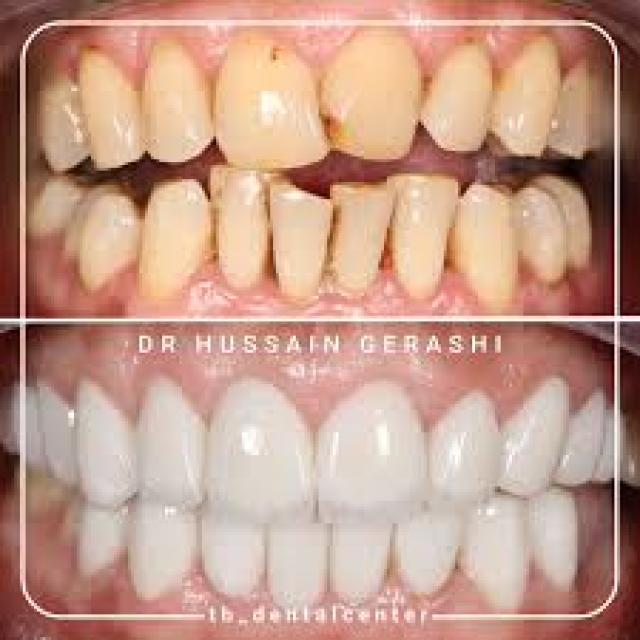tooth: (202, 376, 321, 518), (316, 378, 432, 506), (216, 40, 330, 168), (330, 34, 415, 157), (128, 372, 208, 500), (68, 372, 145, 503), (429, 381, 504, 504), (501, 372, 566, 503), (71, 46, 145, 160), (390, 168, 458, 290), (140, 40, 210, 156), (140, 176, 213, 284), (395, 495, 461, 614), (120, 504, 197, 600), (458, 185, 520, 299), (270, 185, 333, 293), (199, 503, 267, 603), (264, 506, 330, 609), (424, 46, 492, 145), (467, 498, 529, 603), (338, 180, 396, 284), (31, 372, 86, 480), (213, 174, 270, 278), (500, 43, 558, 145), (327, 506, 390, 594), (535, 484, 589, 586), (569, 378, 609, 495), (82, 196, 136, 279), (520, 185, 569, 276), (563, 60, 606, 159), (80, 487, 125, 578)
